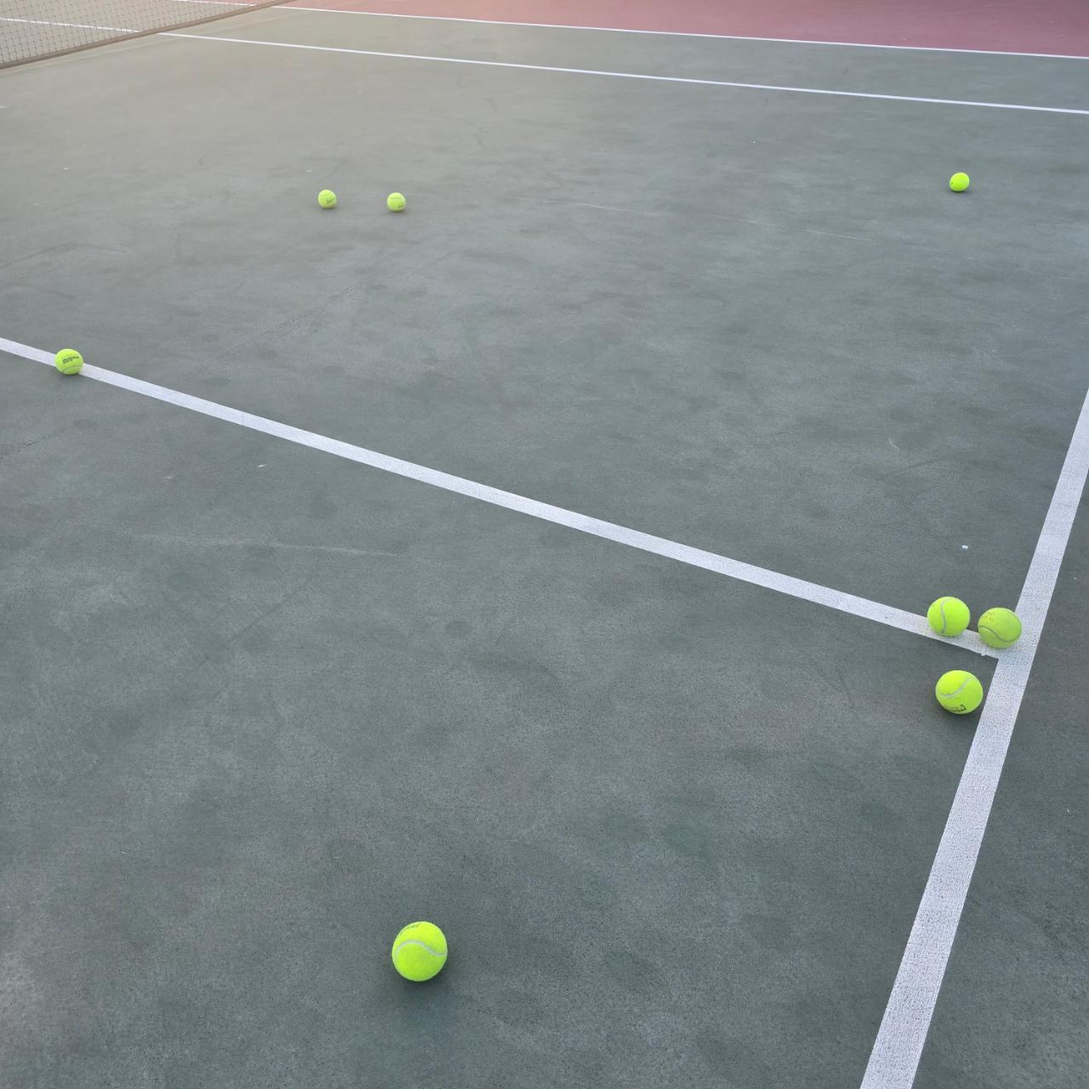tennis-ball: (391, 918, 450, 983), (934, 668, 984, 715), (978, 605, 1023, 648), (927, 594, 972, 636), (55, 346, 85, 375), (949, 169, 972, 192), (387, 190, 408, 211), (318, 187, 339, 208)
